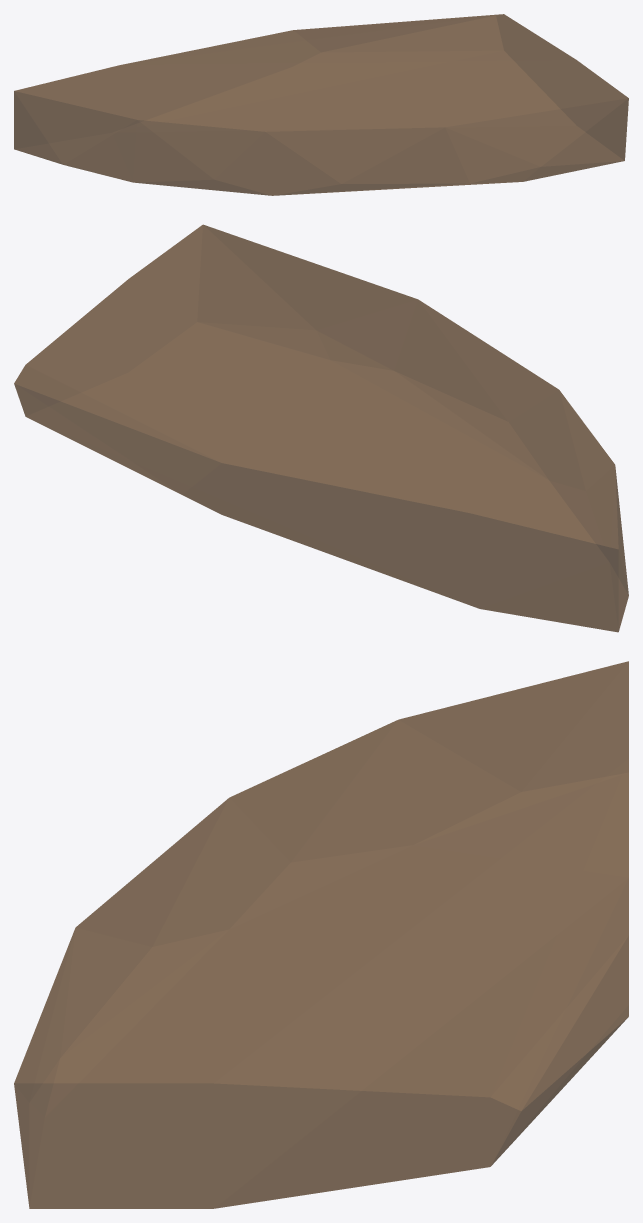
3 views of the same model, one above another, from view 1: azimuth 30°, elevation 25°; view 2: azimuth 150°, elevation 25°; view 3: azimuth 270°, elevation 25° (orthographic). The views are drawn at different scales.
Visible parts, largest first — view 1: Shape_IndexedFaceSet.021_Shape_IndexedFaceSet.17596; view 2: Shape_IndexedFaceSet.021_Shape_IndexedFaceSet.17596; view 3: Shape_IndexedFaceSet.021_Shape_IndexedFaceSet.17596.
Part boxes in pixels (x1,y1,x2,y2): Shape_IndexedFaceSet.021_Shape_IndexedFaceSet.17596: (14,14,628,195); Shape_IndexedFaceSet.021_Shape_IndexedFaceSet.17596: (14,224,628,632); Shape_IndexedFaceSet.021_Shape_IndexedFaceSet.17596: (14,661,628,1208).
Size of the model in its own units: 0.1145 by 0.0159 by 0.0705.
